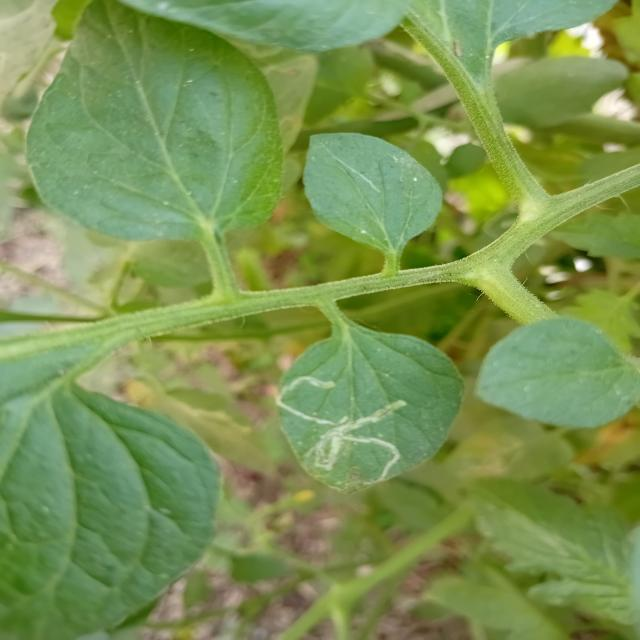Healthy: (4, 0, 323, 285), (0, 333, 219, 639), (275, 102, 457, 275), (471, 295, 640, 450)
Tuta absoluta: (265, 371, 412, 483)
